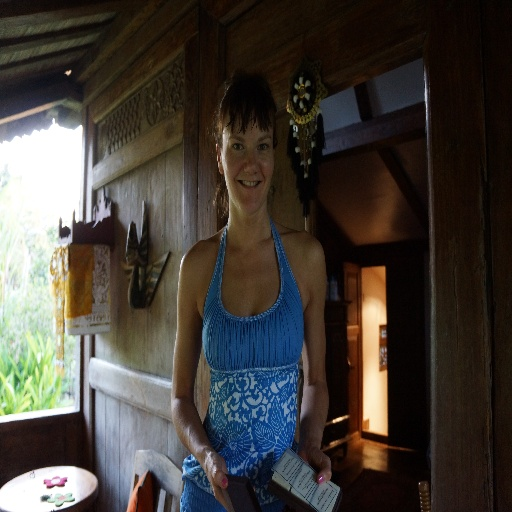hand: (192, 431, 231, 499), (295, 448, 333, 488)
